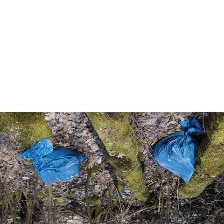plastic_bag: (146, 118, 210, 186), (11, 132, 87, 189)
